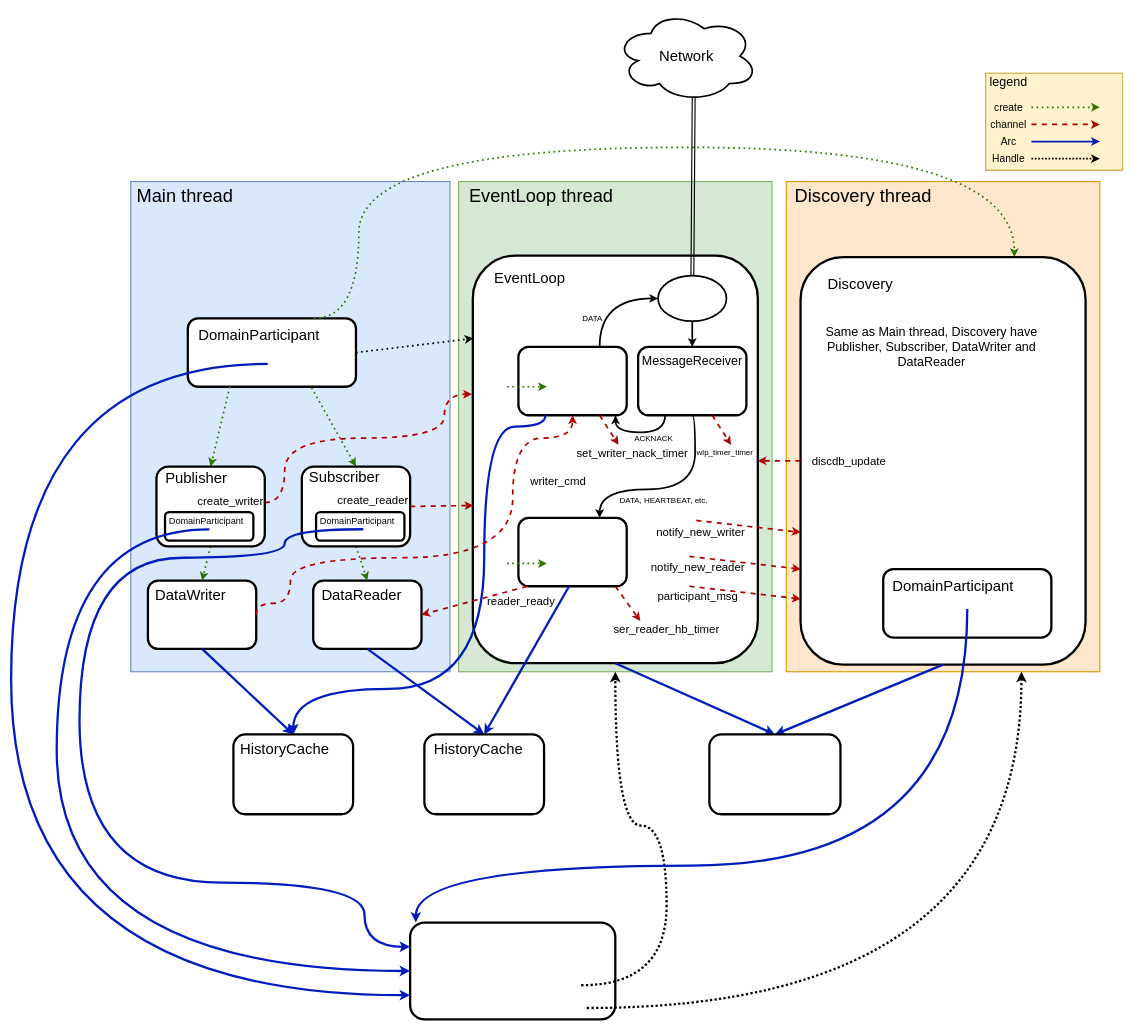
Some shapes in this 1133 by 1031 pixel diagram are drawn without their labels. The shapes that lost their labels are listed below. From the top down, each one's box as (x1, y1, x2, y2) in pixels, then its label:
(657, 274, 727, 322): Socket
(517, 345, 628, 416): Writer
(517, 516, 628, 587): Reader
(708, 733, 841, 815): DiscoveryDB
(409, 921, 616, 1020): DomainParticipantInner
